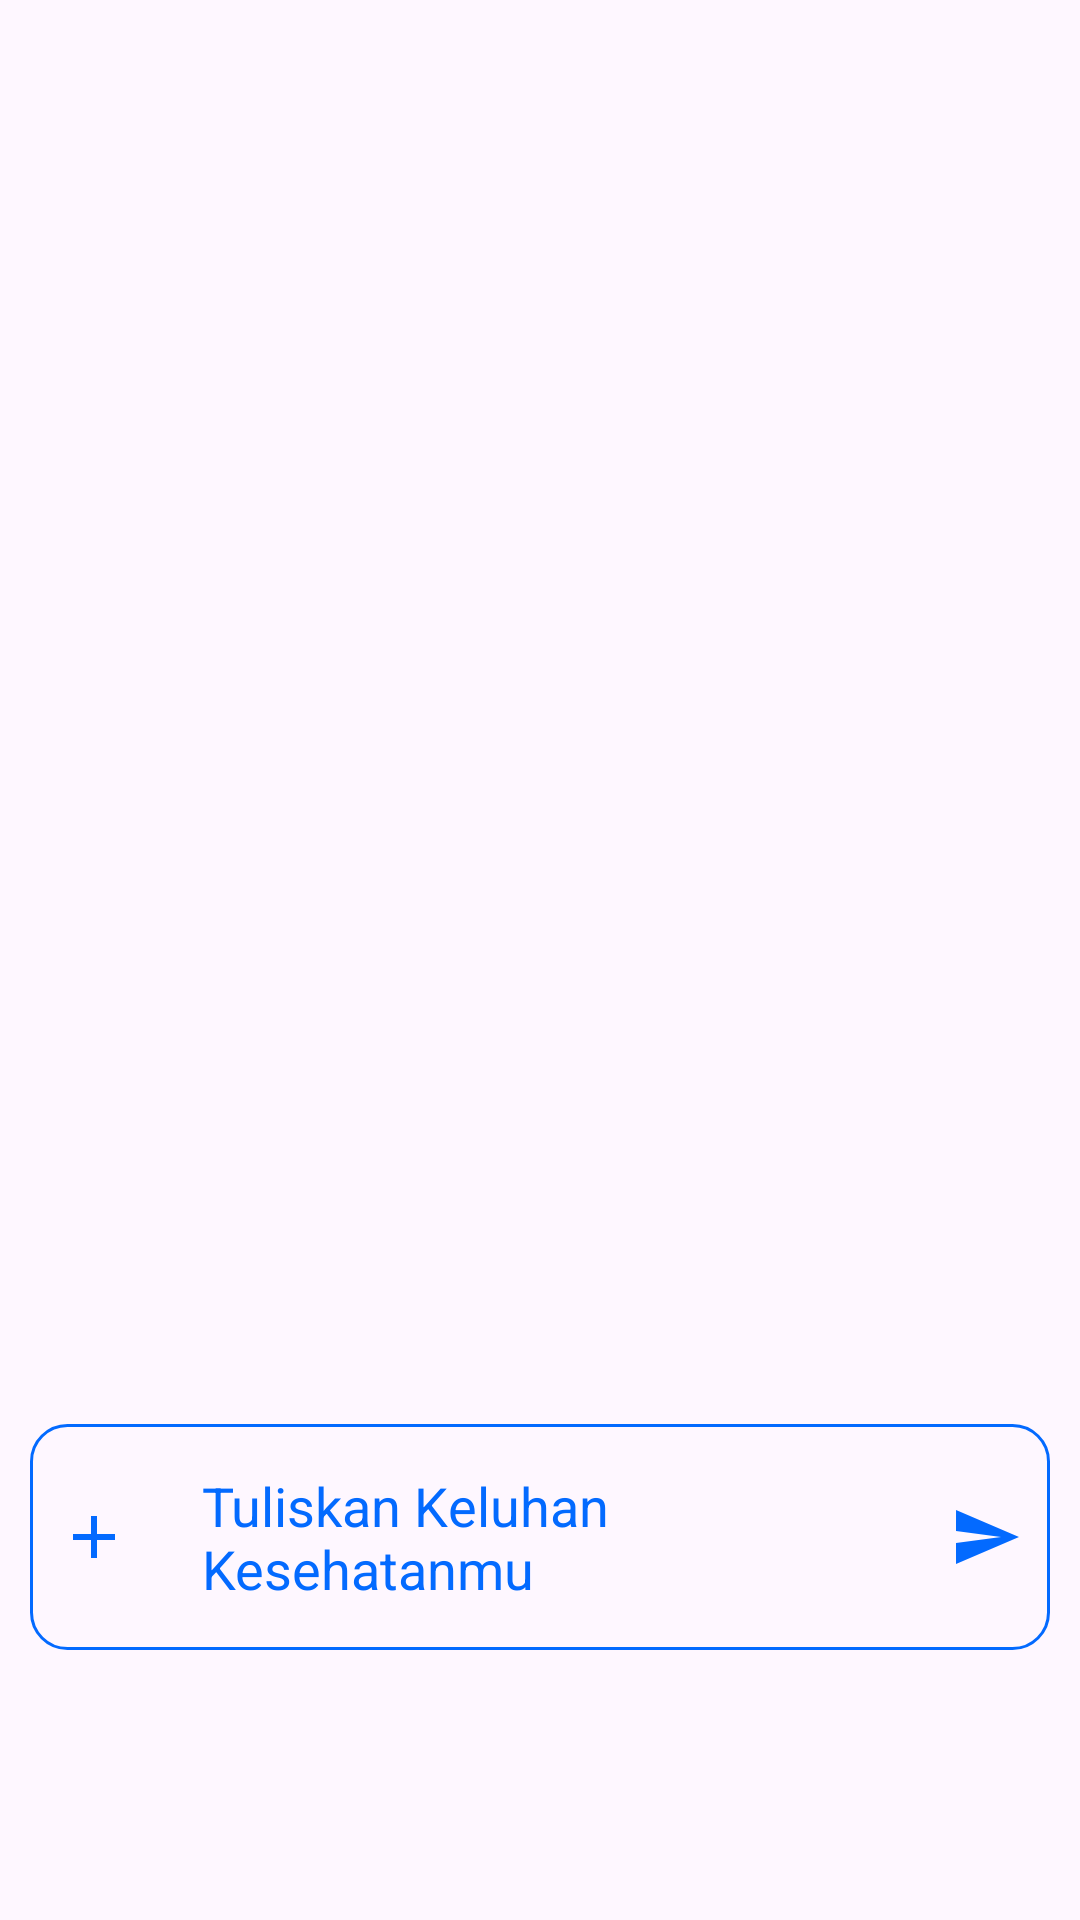

Named icons in this screenshot (1080x1920) and their bounding boxes, bbox=(x1, y1, x2, y2):
send: bbox=(956, 1510, 1019, 1564)
